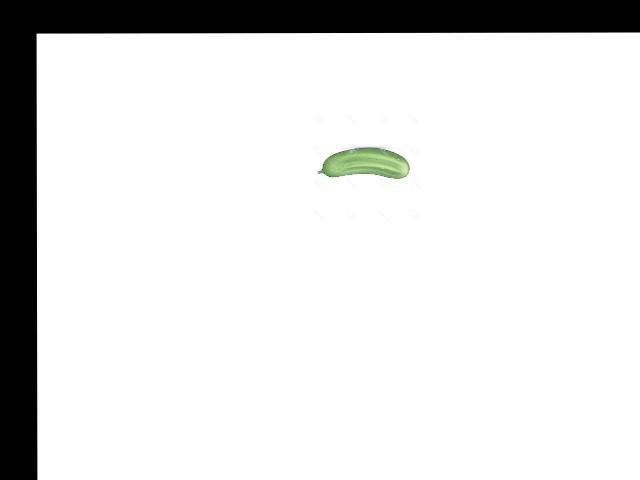cucumber: (318, 146, 410, 178)
